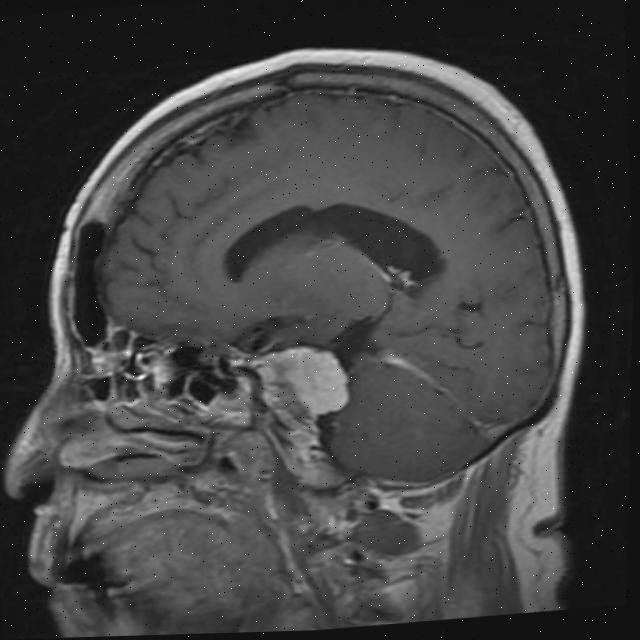Meningioma: (281, 340, 353, 417)
